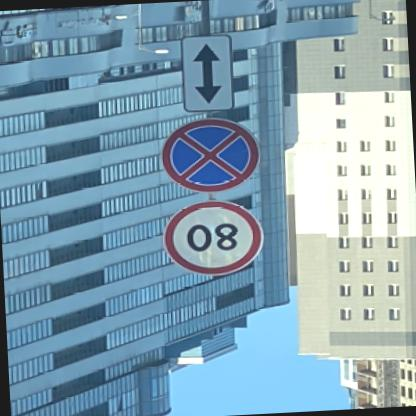speedlimit: (164, 198, 268, 276)
